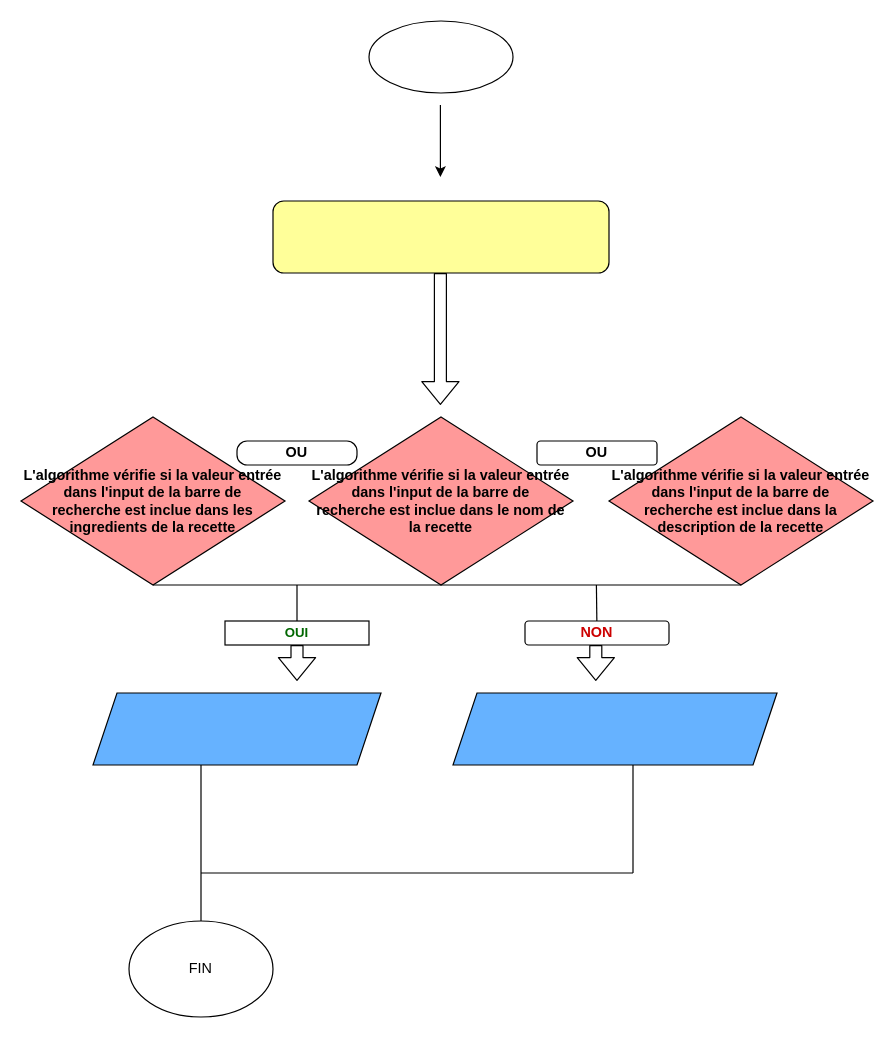
Some shapes in this 894 by 1038 pixel diagram are drawn without their labels. The shapes that lost their labels are listed below. From the top down, each one's box as (x1, y1, x2, y2) in pixels, then its label:
(368, 20, 513, 93): DEBUT
(272, 200, 609, 273): Saisie de + de 3 lettres dans l'input de la barre de recherche
(92, 692, 381, 765): Interface actualisée avec résultats de recherche
(452, 692, 777, 765): Message d'erreur
